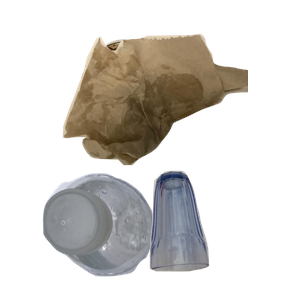glass: (147, 168, 300, 300)
metal: (78, 37, 243, 163)
plastic: (40, 170, 187, 300)
trash: (60, 31, 300, 189)
